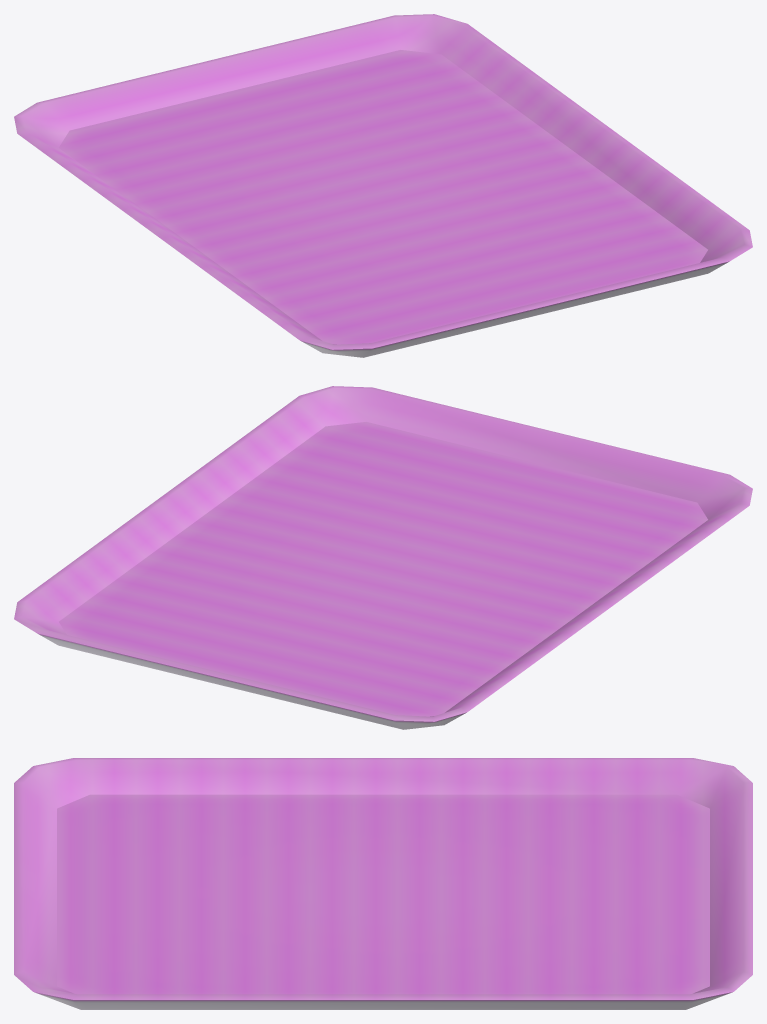
File: jsf_Tray_07.fbx
3 views of the same model, one above another, from view 1: azimuth 30°, elevation 25°; view 2: azimuth 150°, elevation 25°; view 3: azimuth 270°, elevation 25° (orthographic). The views are drawn at different scales.
Visible parts, largest first — view 1: jsf_Tray_07; view 2: jsf_Tray_07; view 3: jsf_Tray_07.
Boxes of the visible parts, left/top/right/bottom form: jsf_Tray_07: left=14, top=14, right=752, bottom=357; jsf_Tray_07: left=14, top=386, right=752, bottom=729; jsf_Tray_07: left=14, top=758, right=752, bottom=1009.
Size of the model in its own units: 21.76 by 1.1 by 28.1.
